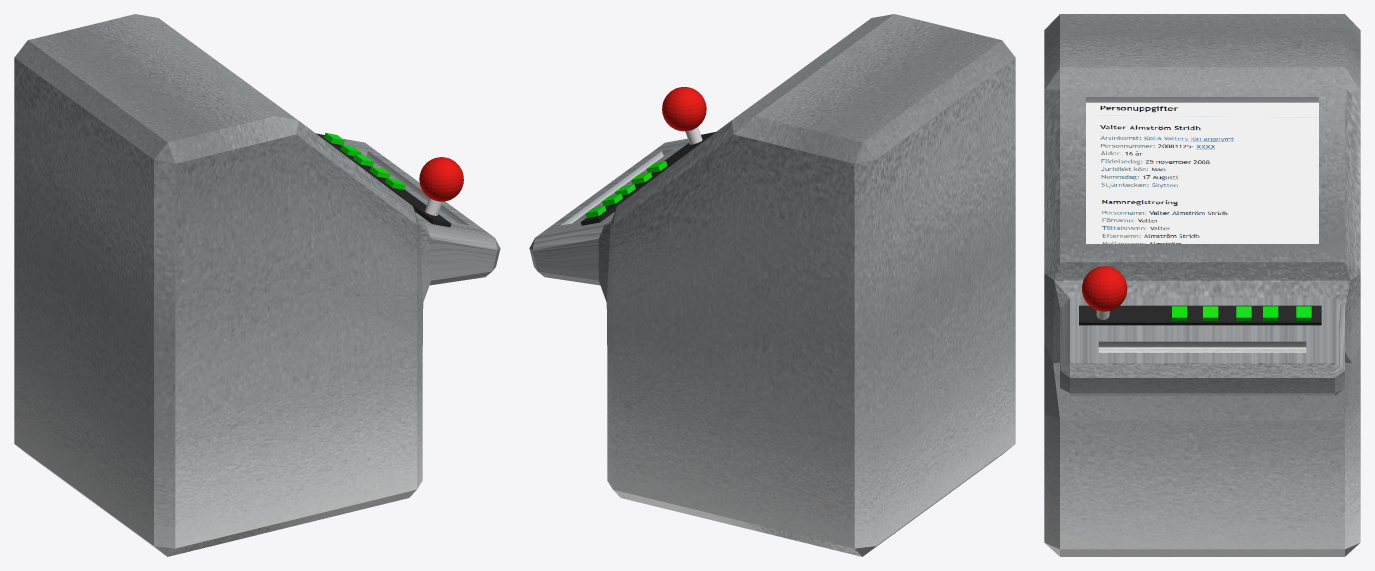
Rendered from DataSpaceComputer.fbx.
3 renders of one model, left to right at view 1: azimuth 30°, elevation 25°; view 2: azimuth 150°, elevation 25°; view 3: azimuth 270°, elevation 25°, orthographic.
Visible parts, largest first — view 1: Cube, Sphere, Cube.006; view 2: Cube, Sphere, Cube.006; view 3: Cube, Cube.006, Sphere.
Part boxes in pixels (box(x1,y1,x2,y2)): Cube: box(14, 14, 500, 556); Sphere: box(419, 157, 463, 201); Cube.006: box(316, 133, 451, 227); Cube: box(529, 14, 1015, 556); Sphere: box(662, 87, 706, 131); Cube.006: box(580, 132, 715, 225); Cube: box(1044, 14, 1360, 556); Cube.006: box(1079, 305, 1321, 325); Sphere: box(1082, 266, 1127, 311).
Size of the model in its own units: 262 by 295 by 200.
Materials: 8 (1 with a texture image).
